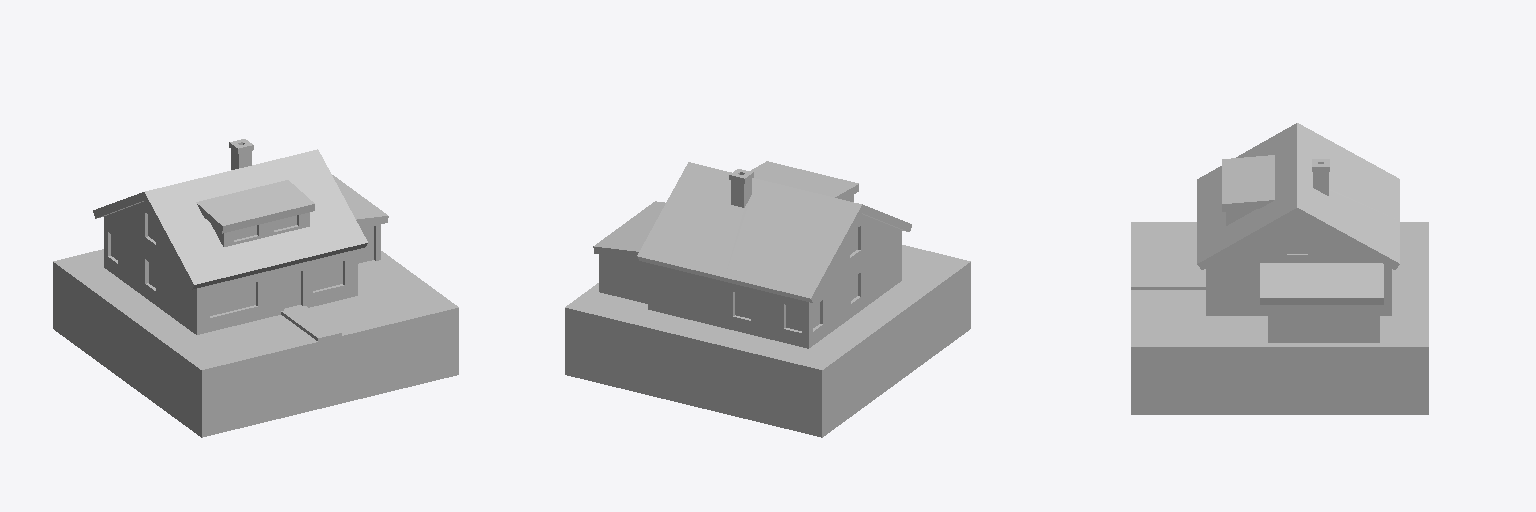
File: building-house9.obj
The picture shows the model from 3 angles: view 1: azimuth 30°, elevation 25°; view 2: azimuth 150°, elevation 25°; view 3: azimuth 270°, elevation 25°; orthographic projection.
Parts seen in each view (by area): view 1: house-small-garage_Cube.000; view 2: house-small-garage_Cube.000; view 3: house-small-garage_Cube.000.
Part boxes in pixels (bbox=[...]): house-small-garage_Cube.000: bbox=[53, 139, 458, 437]; house-small-garage_Cube.000: bbox=[565, 161, 970, 437]; house-small-garage_Cube.000: bbox=[1131, 123, 1428, 414].
Size of the model in its own units: 8 by 5.69 by 8.